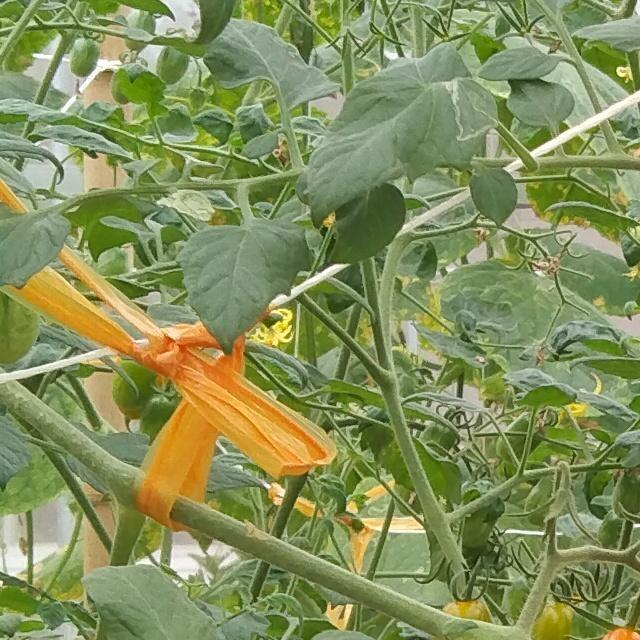Tomato target spot leaf: (305, 42, 499, 234), (180, 218, 306, 356)
